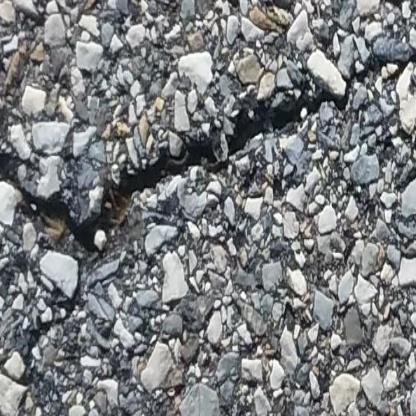Cracks: (0, 95, 327, 268)
